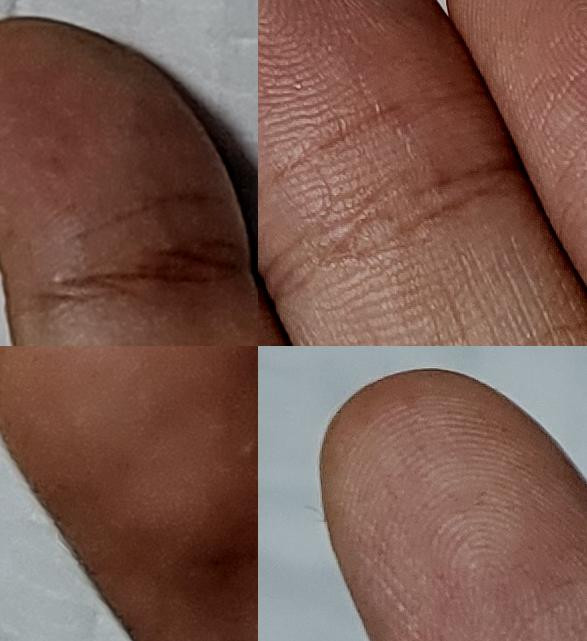Fingerprints: (0, 346, 258, 641), (258, 0, 523, 284), (318, 365, 587, 641), (0, 18, 249, 311)
